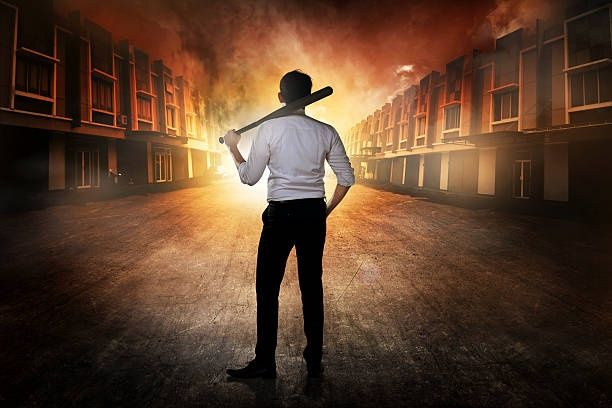bita: (214, 88, 340, 146)
